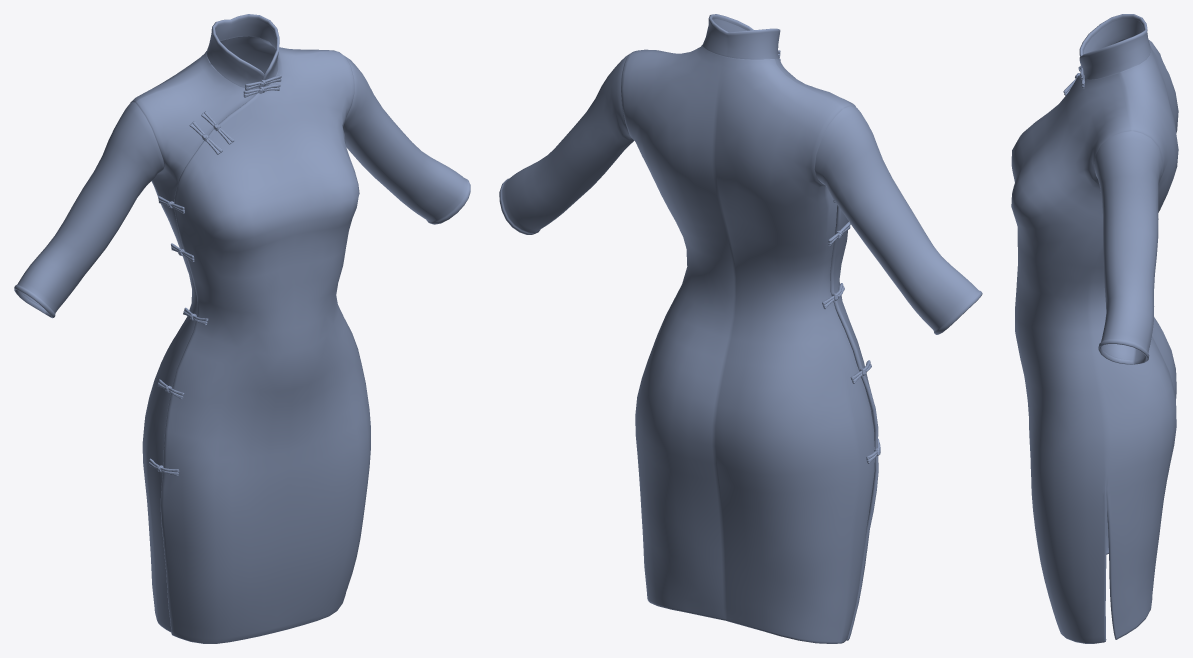
Rendered from qipao.gltf.
3 views of the same model, side by side, from view 1: azimuth 30°, elevation 25°; view 2: azimuth 150°, elevation 25°; view 3: azimuth 270°, elevation 25° (orthographic). The views are drawn at different scales.
Parts seen in each view (by area): view 1: main, qipao_kouzi_model; view 2: main, qipao_kouzi_model; view 3: main.
Boxes of the visible parts, x1,y1,x2,y2 form: main: [14, 14, 470, 643]; qipao_kouzi_model: [148, 75, 281, 476]; main: [499, 14, 982, 643]; qipao_kouzi_model: [777, 50, 880, 463]; main: [1011, 14, 1178, 643].
Size of the model in its own units: 0.775 by 0.9654 by 0.2509.
